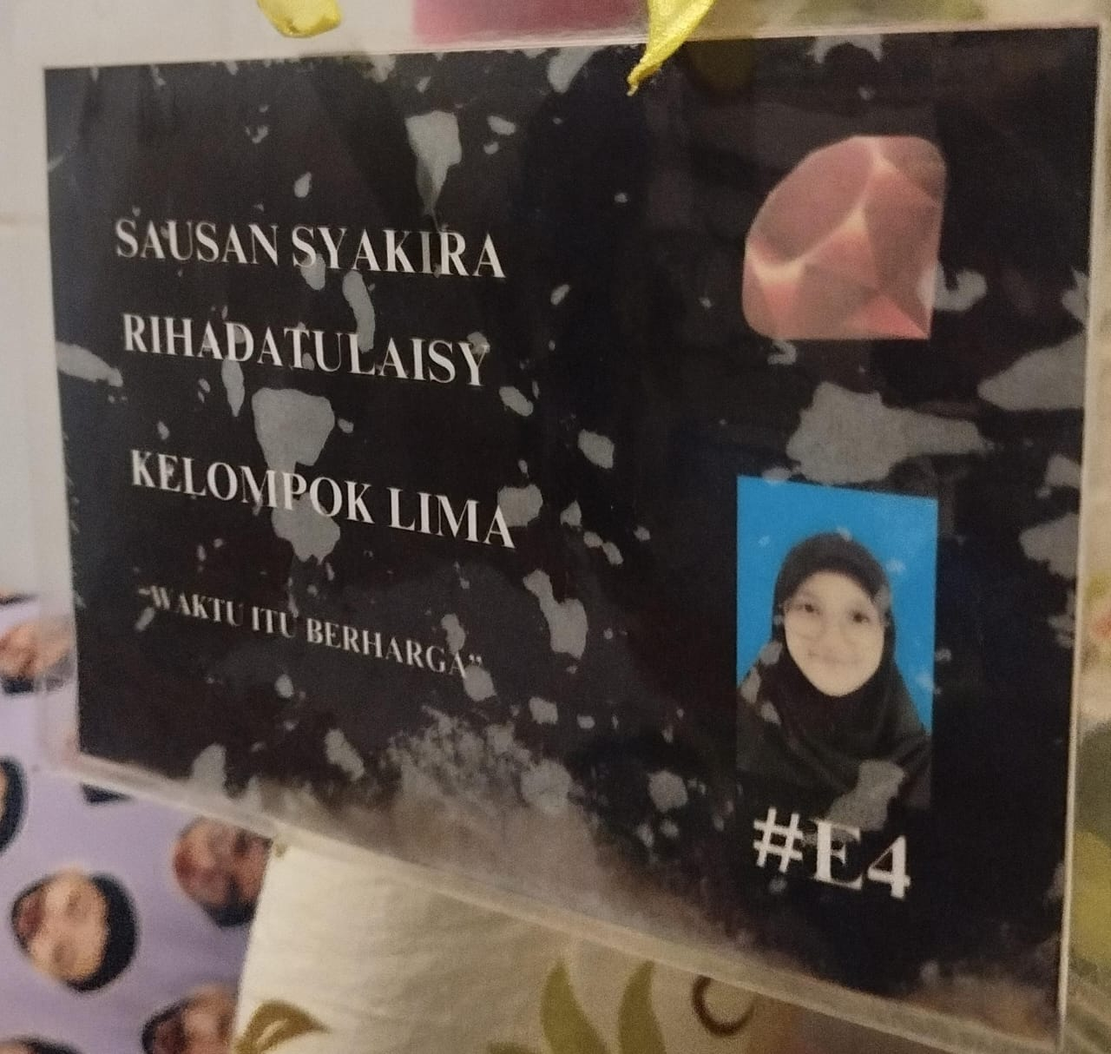nametag_ada: (44, 63, 1075, 908)
